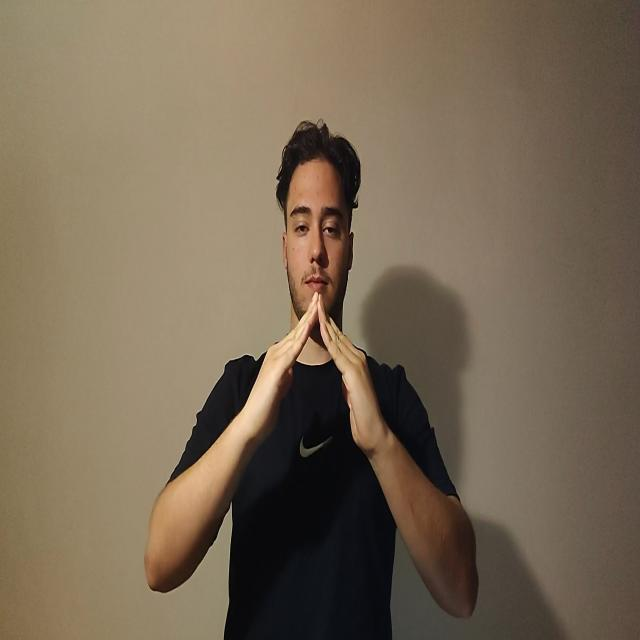house: (239, 295, 383, 461)
